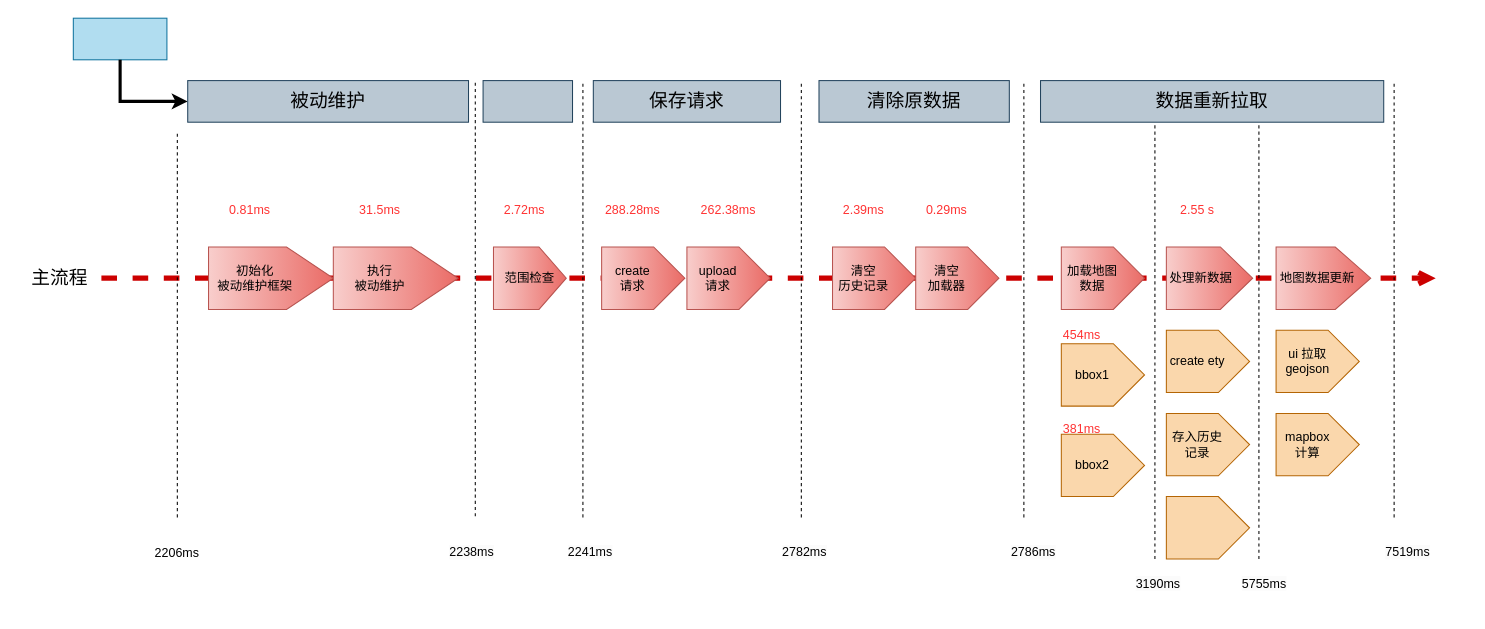
This 1485x629 diagram has some shape labels left out. Each missing label, with the centre of its shape:
"数据检查" belongs at pixel 527 101.
"点击保存" belongs at pixel 119 38.
"计算geojson" belongs at pixel 1207 527.
